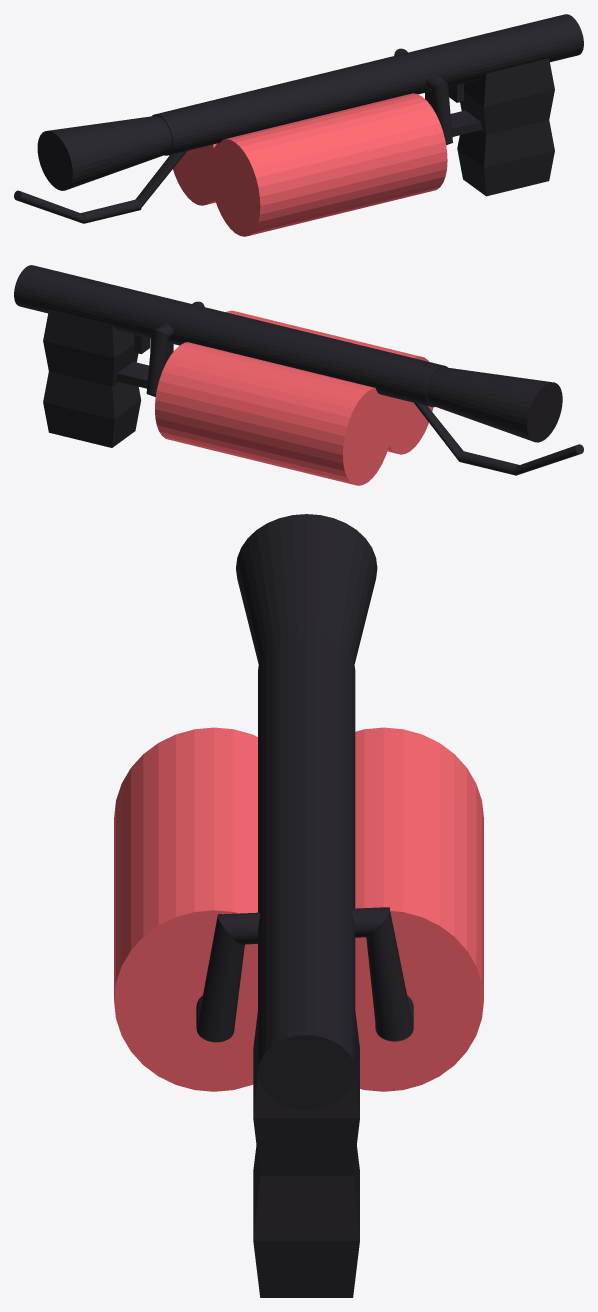
File: Flammenwerfer.fbx
3 views of the same model, one above another, from view 1: azimuth 30°, elevation 25°; view 2: azimuth 150°, elevation 25°; view 3: azimuth 270°, elevation 25° (orthographic). The views are drawn at different scales.
Parts seen in each view (by area): view 1: Cylinder.003; view 2: Cylinder.003; view 3: Cylinder.003.
Boxes of the visible parts, bbox=[...] form: Cylinder.003: bbox=[14, 14, 583, 236]; Cylinder.003: bbox=[14, 265, 583, 485]; Cylinder.003: bbox=[114, 514, 483, 1297].
Bounding box in the file's own units: 870 × 235 × 251.
